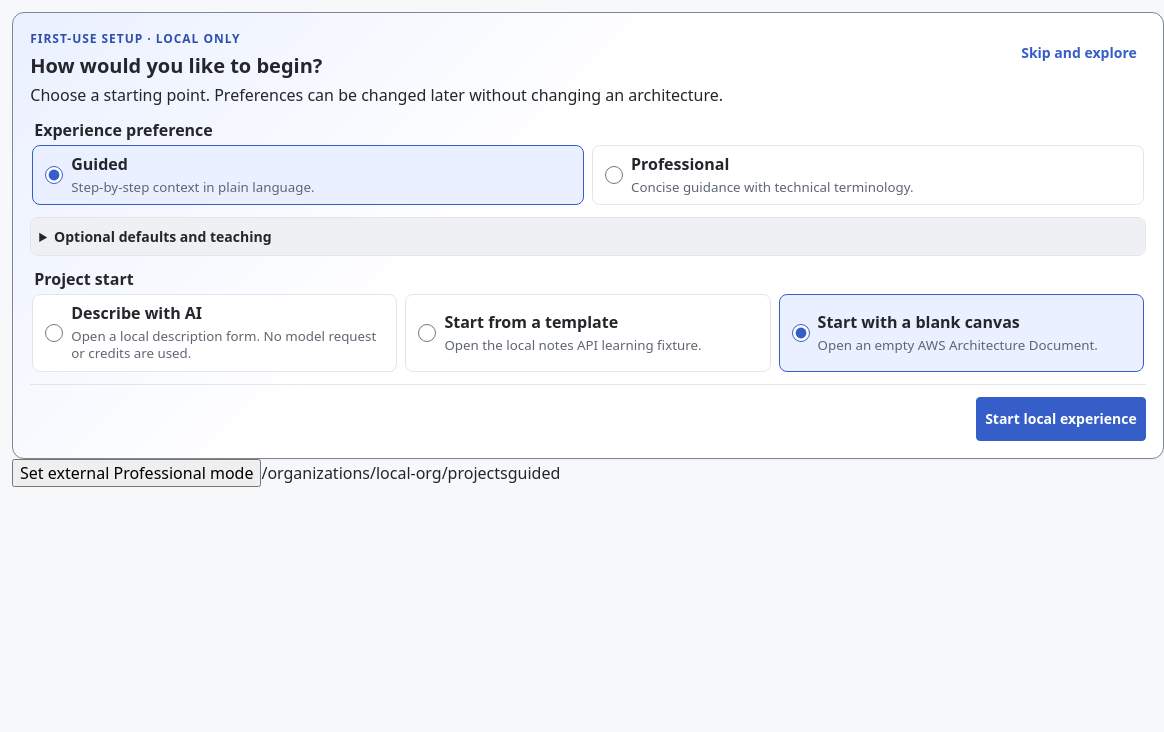
Test: FirstUseExperience › persists Professional, Region, template, and teaching choices before navigation
The width and height of the screenshot is (1164, 732).
Click the radio button labelled "Professional Concise guidance with technical terminology.": (614, 175) [605,166,623,184]
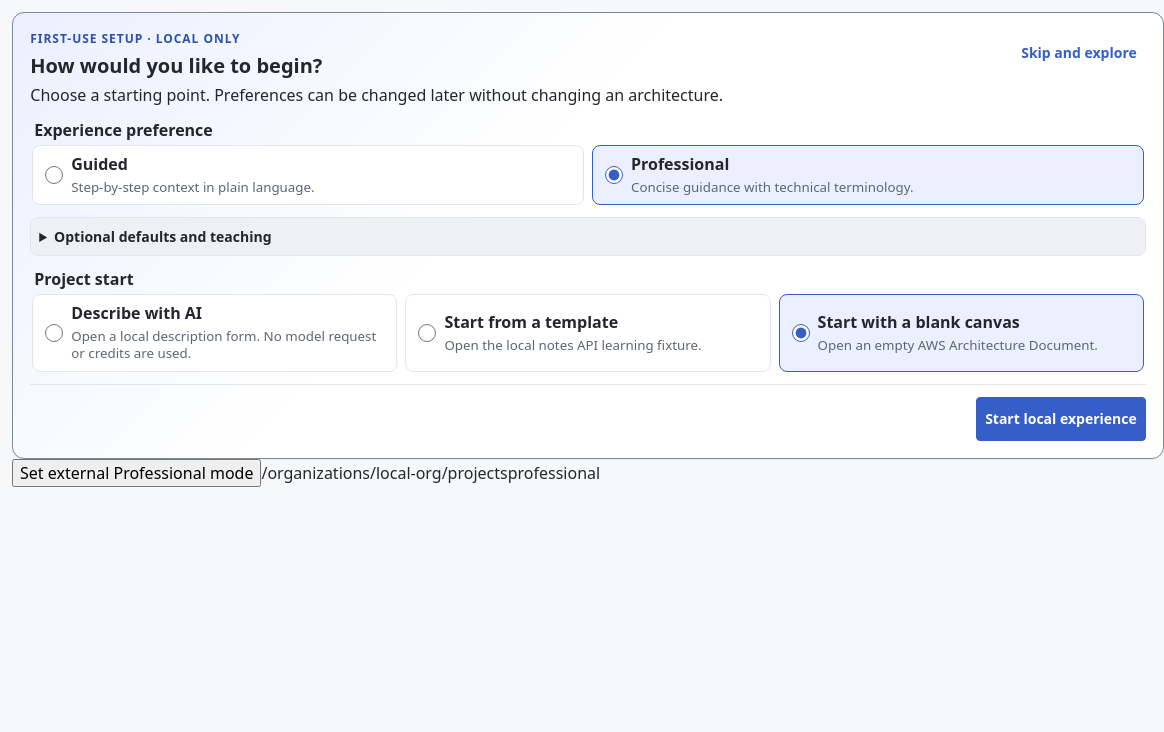
Click the heading "Optional defaults and teaching": (163, 237) [31,218,1145,255]
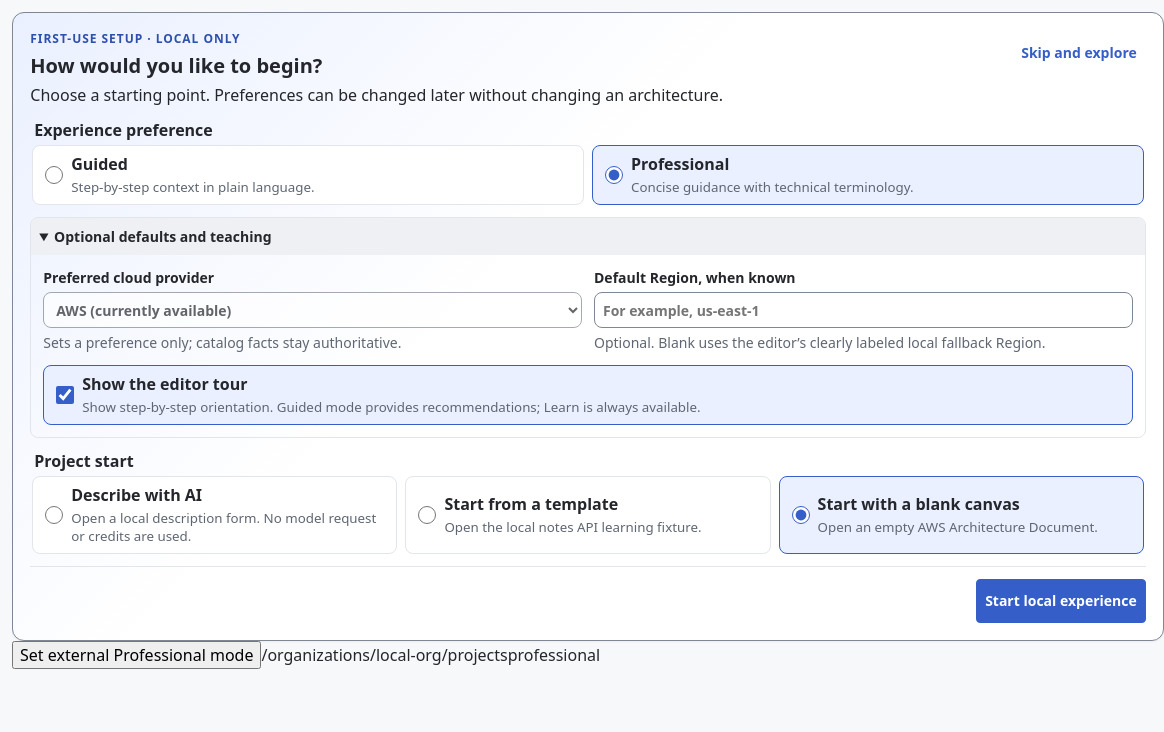
In the field labelled "Default Region": (863, 310) [594,292,1133,328], type "us-east-1"
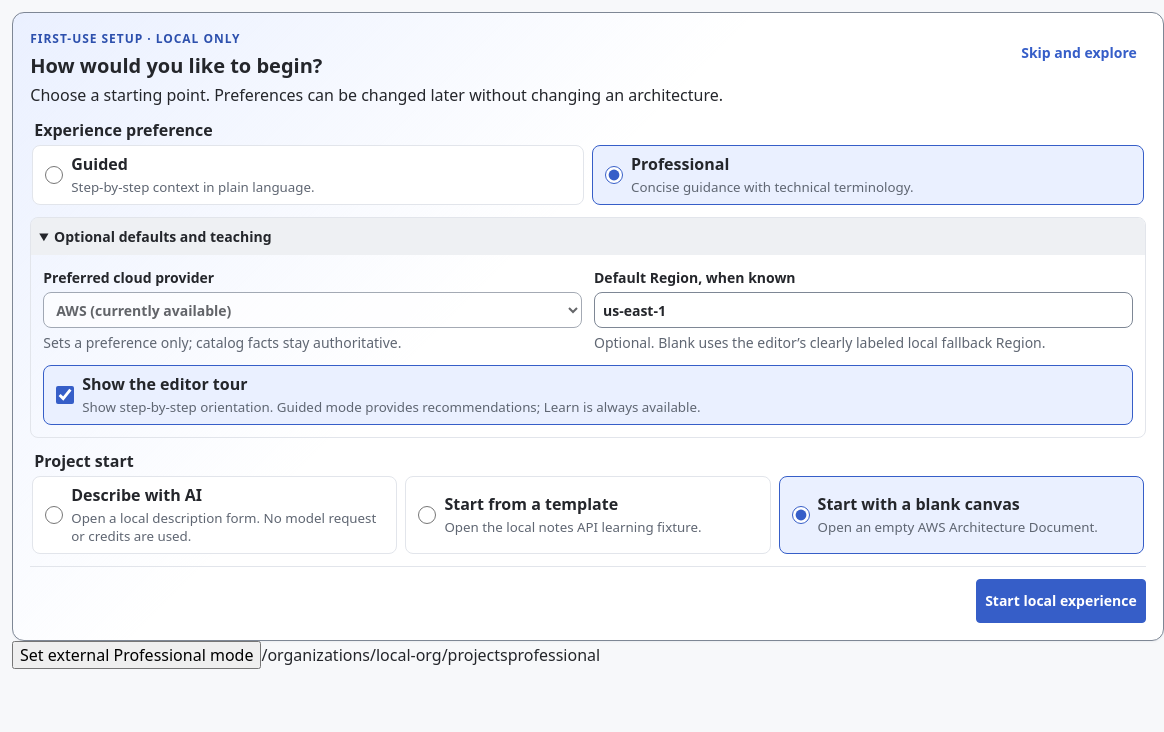
Click the radio button labelled "Start from a template": (427, 515) [418,506,436,524]
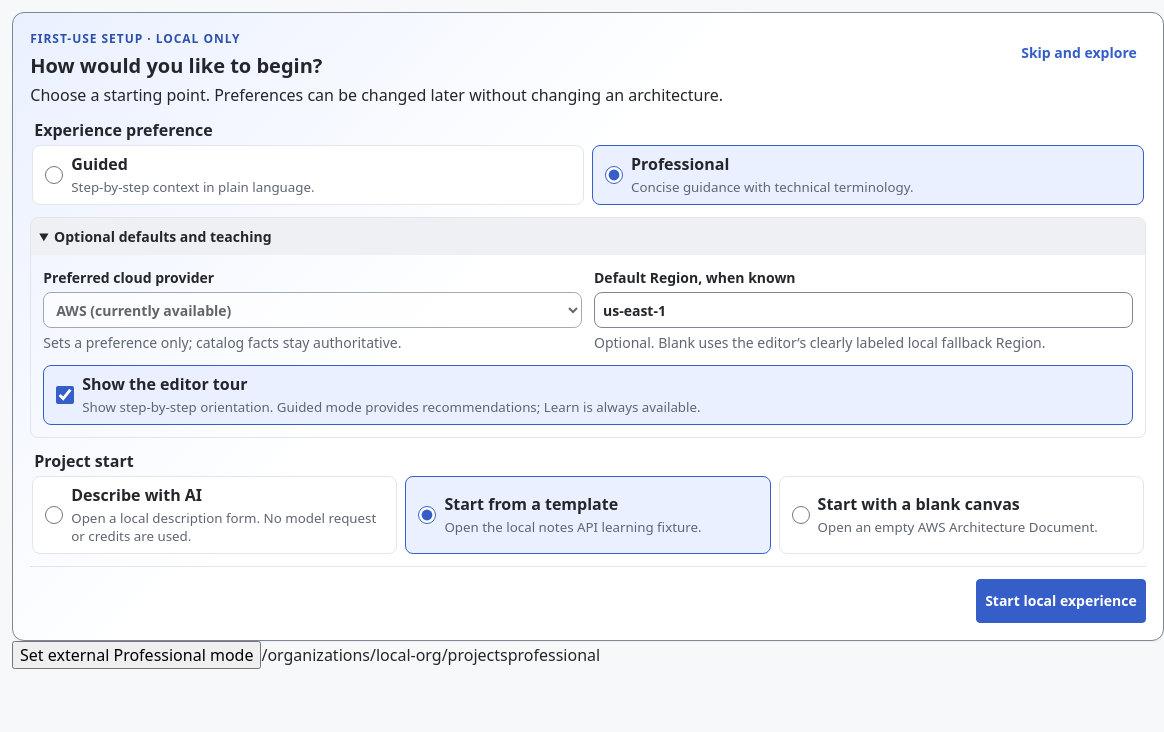
Click the checkbox labelled "Show the editor tour": (65, 395) [56,386,74,404]
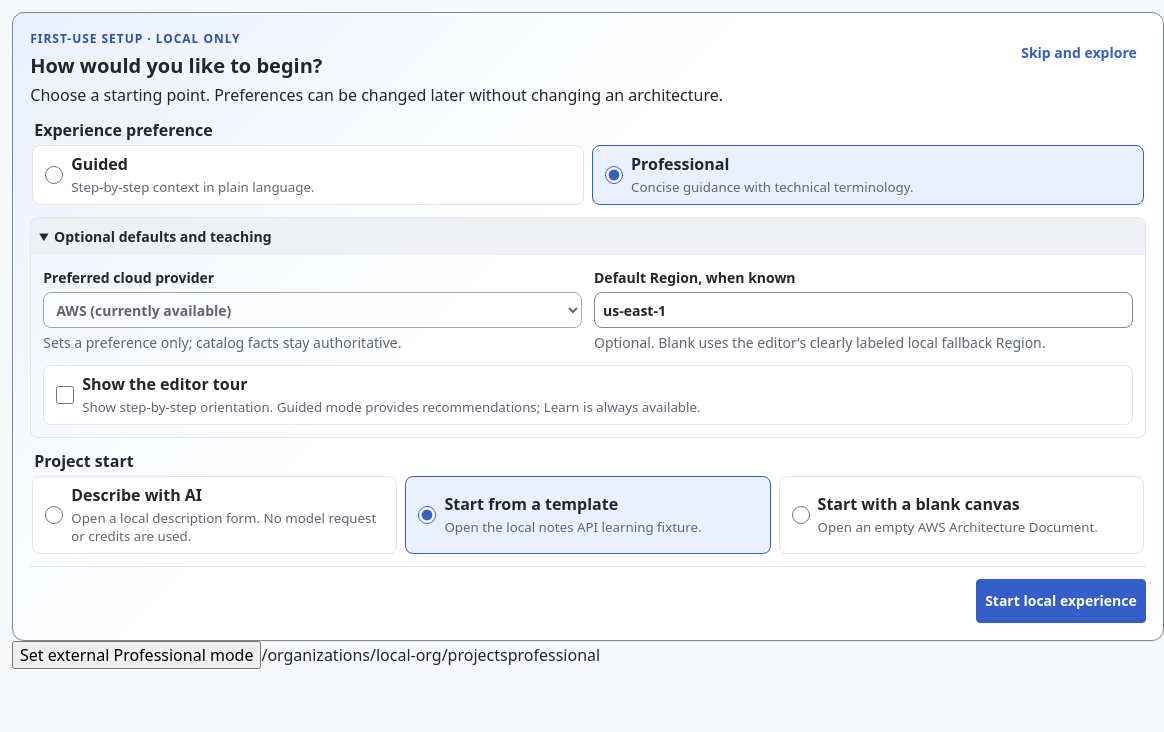
Click the button "Start local experience": (1061, 601) [976,579,1146,623]
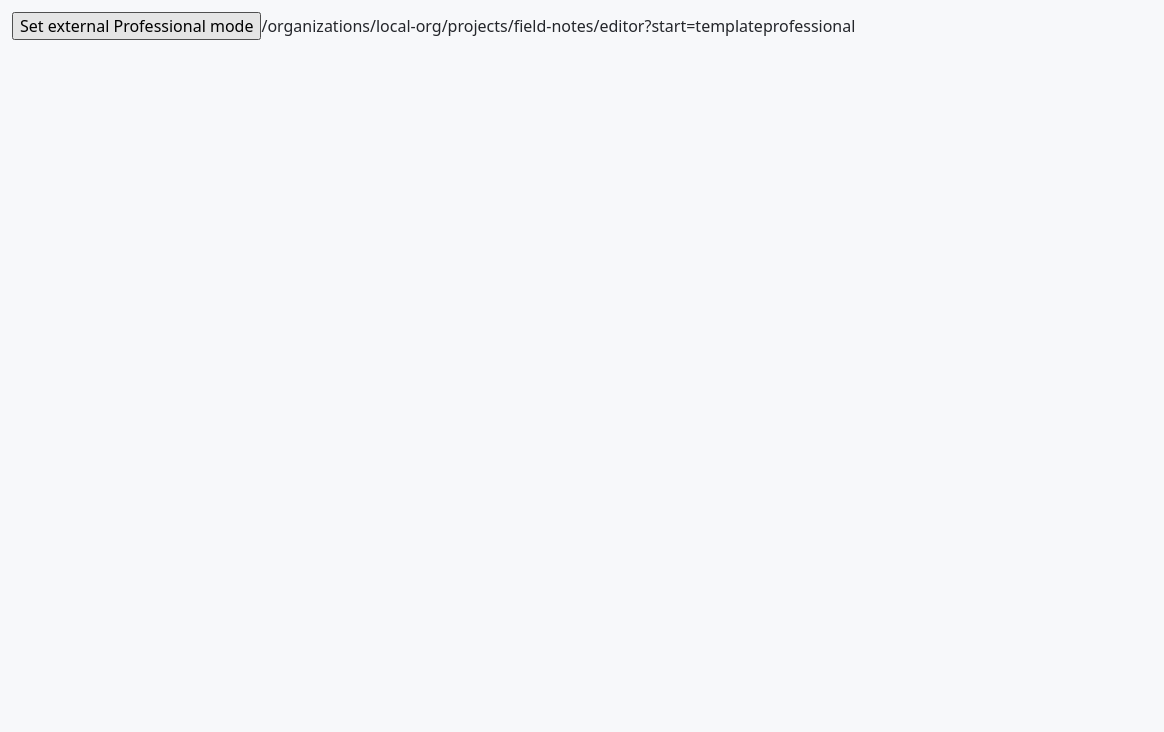
Expected: the text with test id "mode" reads "professional", [763,15,855,37]
Expected: the text with test id "location" reads "/organizations/local-org/projects/field-notes/editor?start=template", [262,15,763,37]
